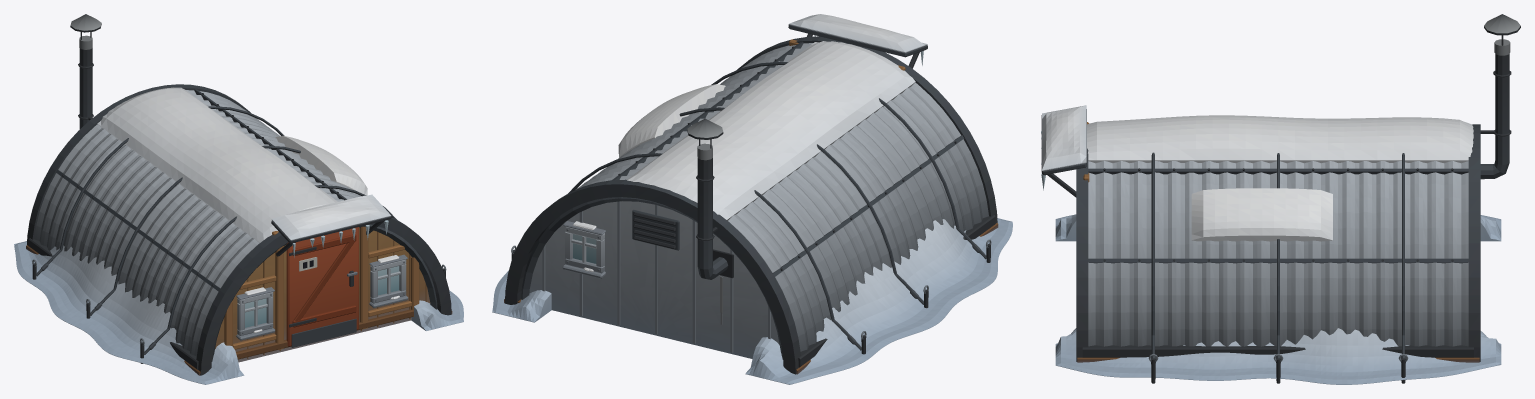
File: quonset-hut.glb
The picture shows the model from 3 angles, left to right: view 1: azimuth 30°, elevation 25°; view 2: azimuth 150°, elevation 25°; view 3: azimuth 270°, elevation 25°; orthographic projection. The views are drawn at different scales.
Visible parts, largest first — view 1: quonset_hut; view 2: quonset_hut; view 3: quonset_hut.
Boxes of the visible parts, left/top/right/bottom form: quonset_hut: left=14, top=14, right=463, bottom=384; quonset_hut: left=492, top=14, right=1012, bottom=384; quonset_hut: left=1041, top=14, right=1520, bottom=384.
Bounding box in the file's own units: 4.12 × 2.55 × 4.41.
